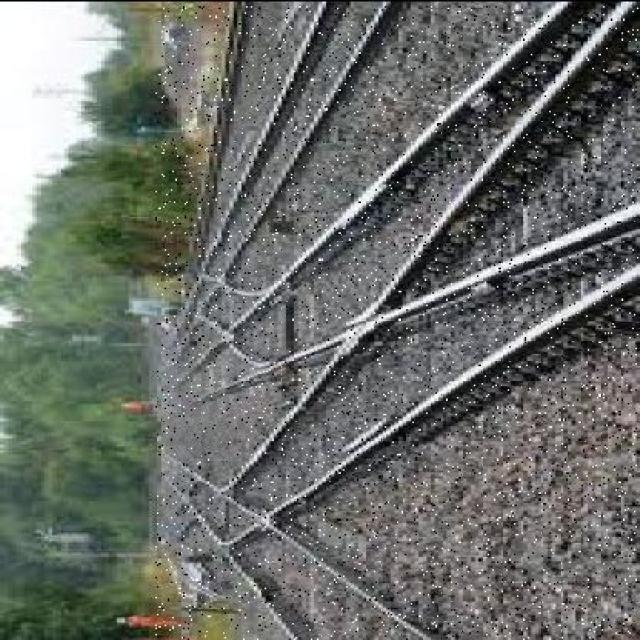rail: (156, 5, 638, 640)
